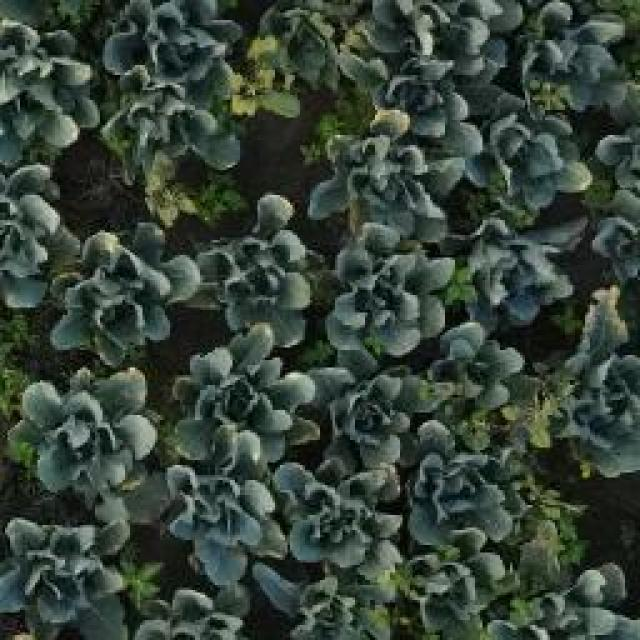cabbage: (185, 329, 314, 454), (192, 193, 314, 319), (314, 126, 461, 230), (418, 332, 542, 453), (11, 376, 152, 482), (160, 462, 284, 580), (334, 236, 450, 362), (356, 0, 479, 115), (468, 100, 595, 210), (505, 0, 640, 100), (268, 458, 395, 562), (0, 512, 110, 630), (409, 443, 522, 557), (459, 223, 577, 330), (63, 240, 179, 347), (102, 91, 243, 177), (561, 337, 640, 478), (0, 24, 88, 148), (99, 0, 226, 83), (0, 164, 67, 308), (321, 371, 416, 471), (272, 566, 386, 640), (412, 552, 518, 625), (506, 587, 640, 640), (135, 589, 247, 640)
